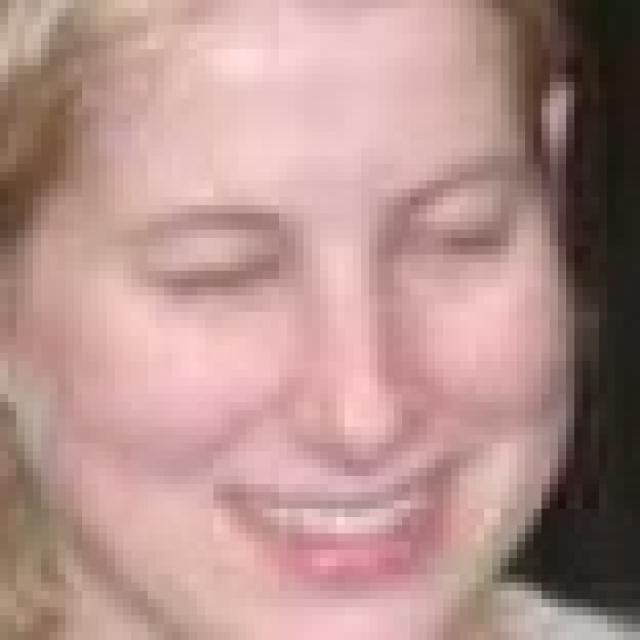close: (113, 195, 303, 333), (391, 147, 549, 293)
